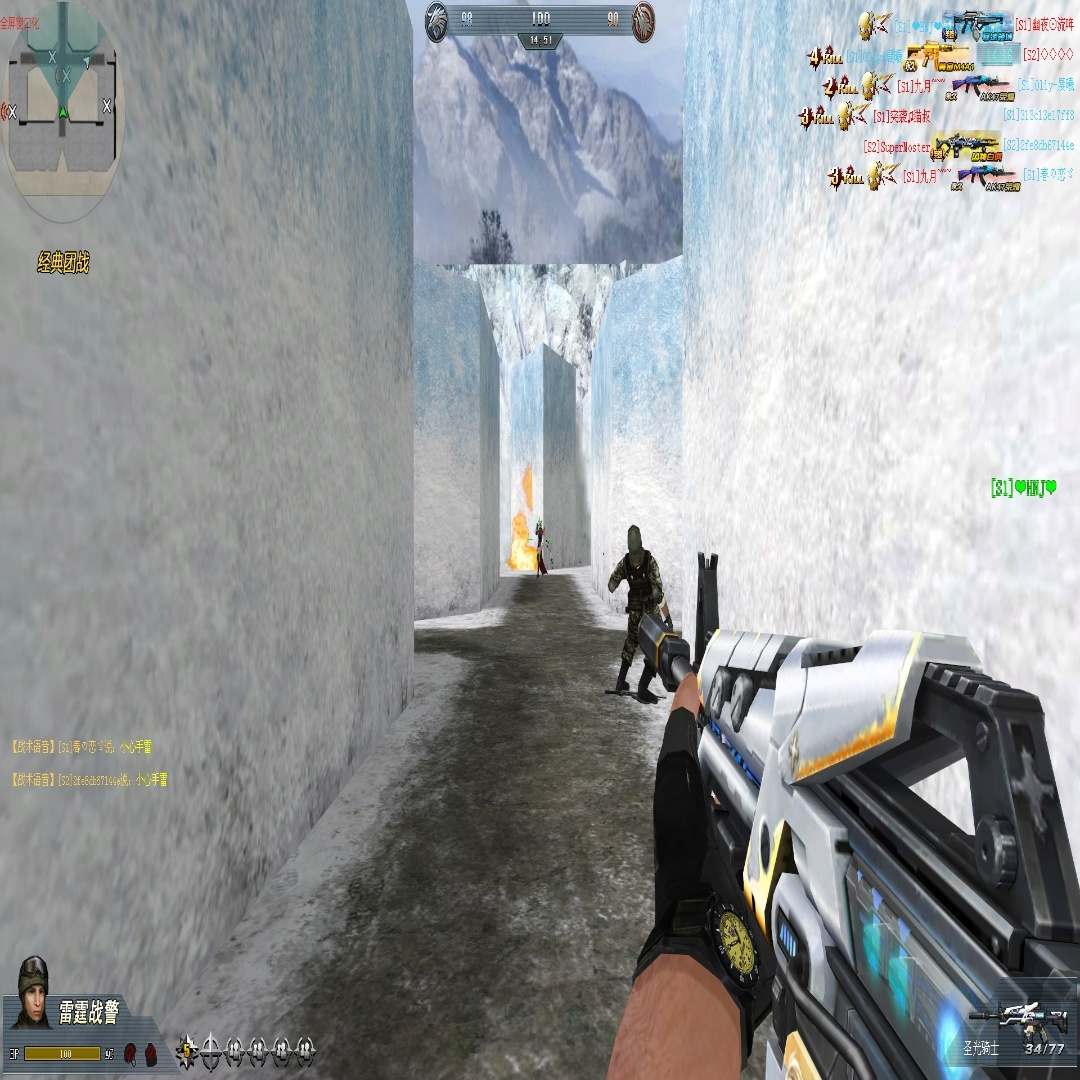t: (534, 519, 548, 574)
